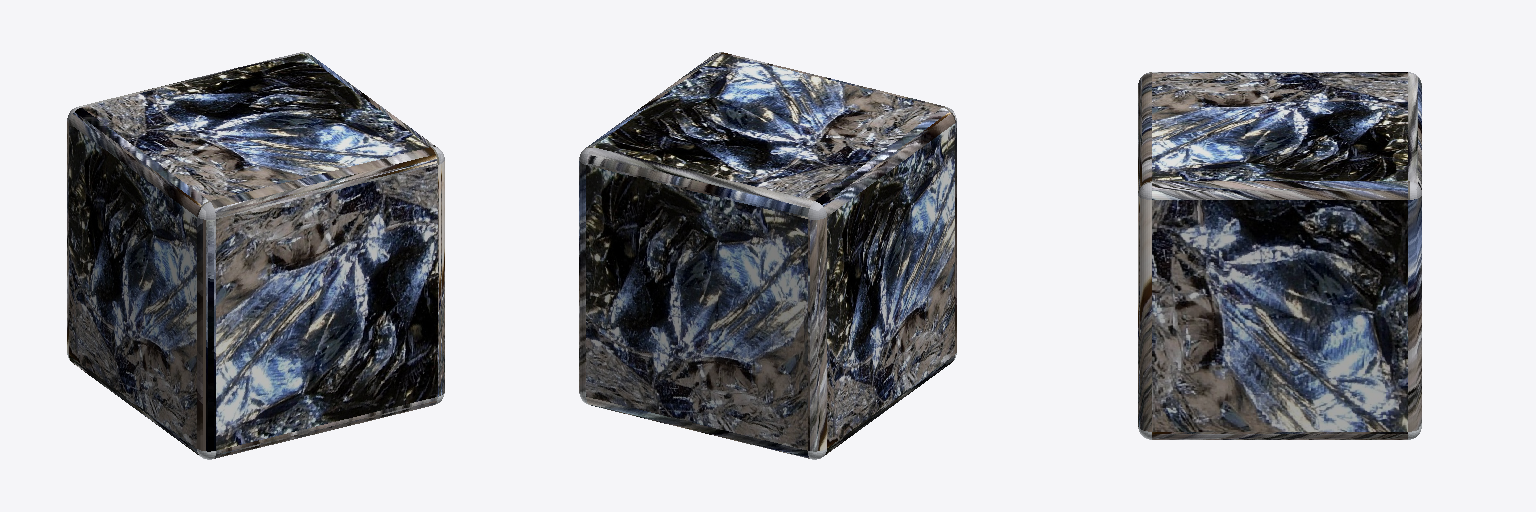
3 renders of one model, left to right at view 1: azimuth 30°, elevation 25°; view 2: azimuth 150°, elevation 25°; view 3: azimuth 270°, elevation 25°, orthographic.
Visible parts, largest first — view 1: Cube; view 2: Cube; view 3: Cube.
Boxes of the visible parts, box(x1,y1,x2,y2) form: Cube: box(67, 52, 444, 459); Cube: box(579, 52, 956, 459); Cube: box(1138, 72, 1421, 439).
Bounding box in the file's own units: 2 × 2 × 2.
Materials: 1 (1 with a texture image).